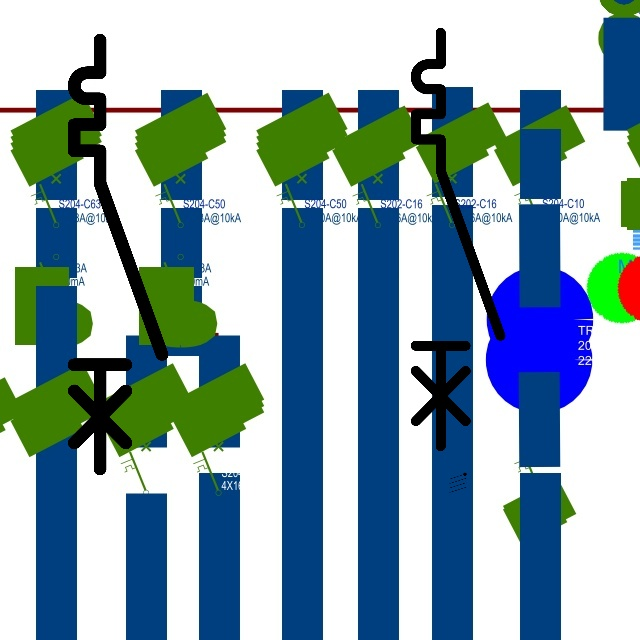interruptor_termomagnetico: (63, 29, 173, 480), (405, 22, 511, 457)
